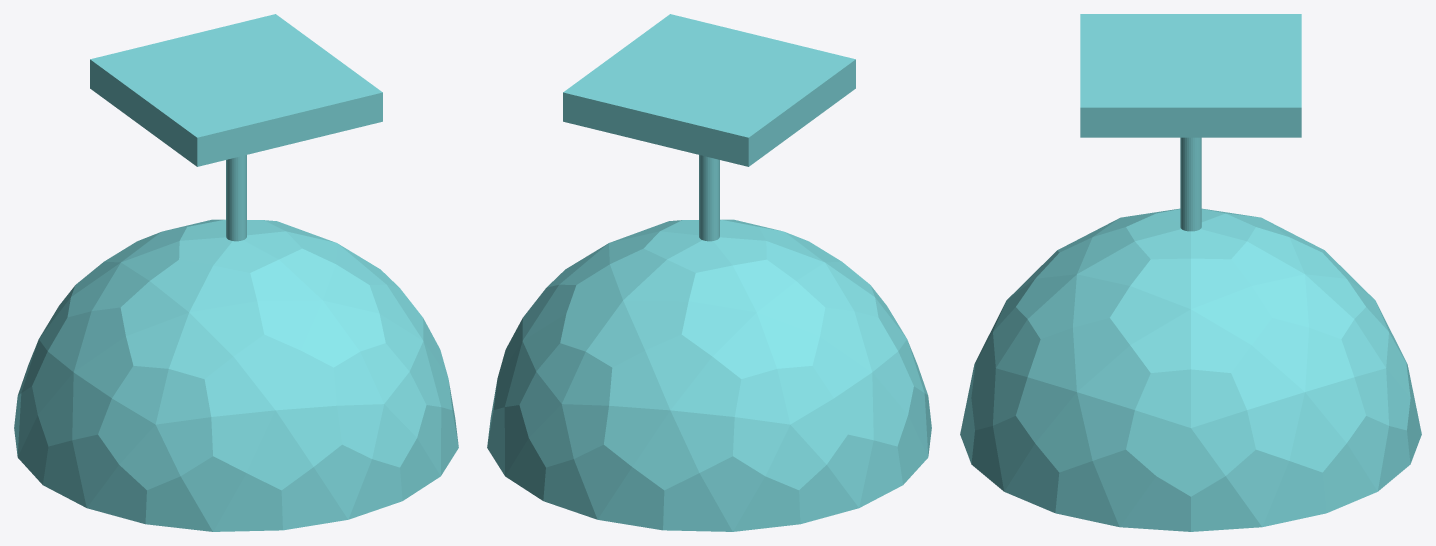
Rendered from Ceiling light.fbx.
3 renders of one model, left to right at view 1: azimuth 30°, elevation 25°; view 2: azimuth 150°, elevation 25°; view 3: azimuth 270°, elevation 25°, orthographic. The views are drawn at different scales.
Parts seen in each view (by area): view 1: Icosphere.001, Cube, Rope; view 2: Icosphere.001, Cube, Rope; view 3: Icosphere.001, Cube, Rope.
Boxes of the visible parts, bbox=[...] form: Icosphere.001: bbox=[14, 219, 458, 531]; Cube: bbox=[90, 14, 382, 166]; Rope: bbox=[226, 155, 246, 241]; Icosphere.001: bbox=[487, 219, 931, 531]; Cube: bbox=[563, 14, 855, 166]; Rope: bbox=[699, 155, 719, 241]; Icosphere.001: bbox=[960, 208, 1421, 531]; Cube: bbox=[1080, 14, 1301, 137]; Rope: bbox=[1180, 137, 1201, 231].
Bounding box in the file's own units: 53.34 × 47.98 × 53.37.
